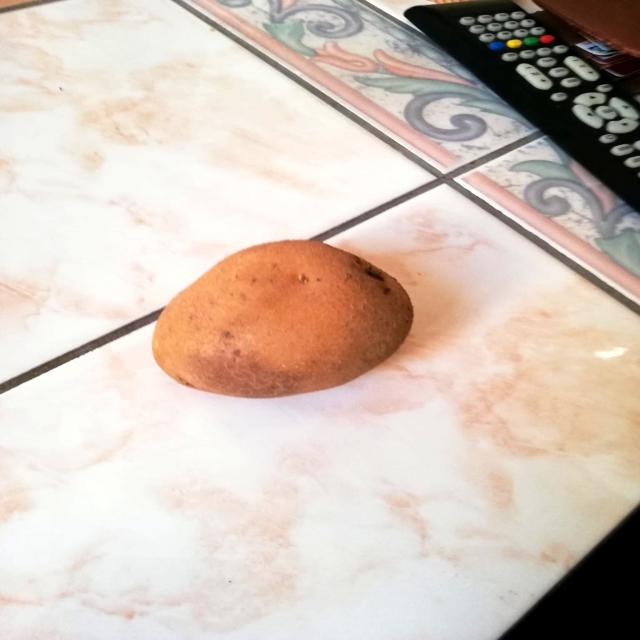potato: (135, 233, 429, 403)
